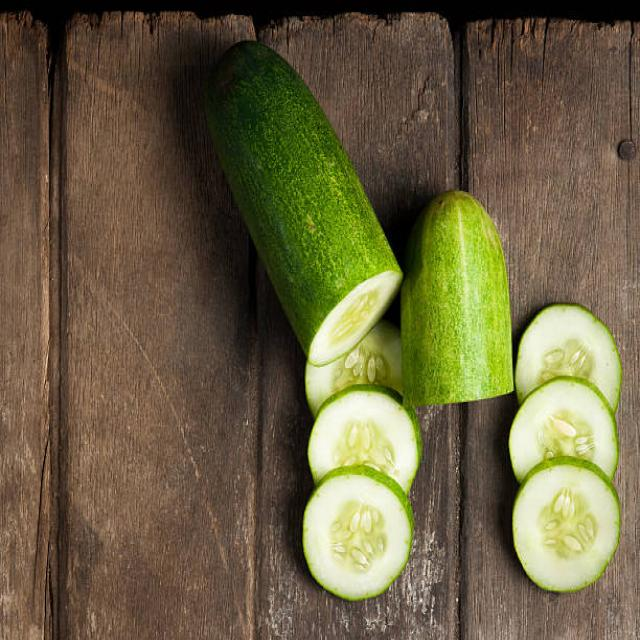cucumber: (200, 34, 405, 363), (402, 186, 514, 405)
